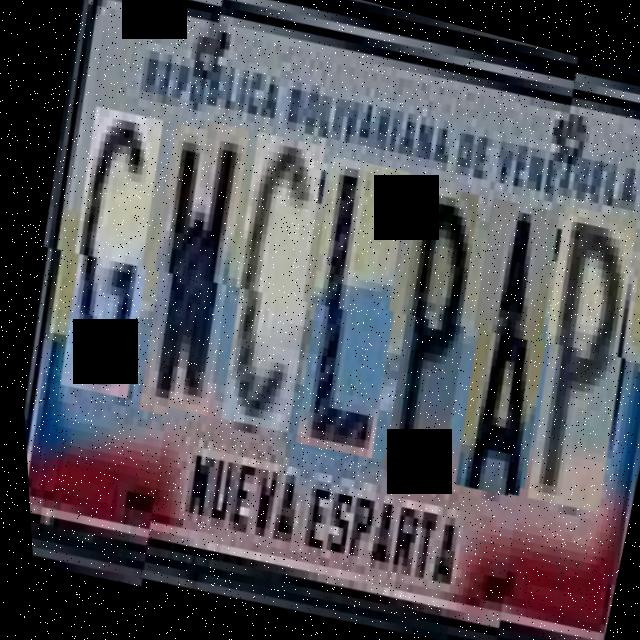A: (416, 200, 584, 506)
C: (183, 131, 351, 436)
G: (25, 96, 191, 392)
L: (257, 156, 434, 463)
P: (485, 216, 640, 530), (345, 185, 504, 487)
W: (102, 113, 276, 420)
